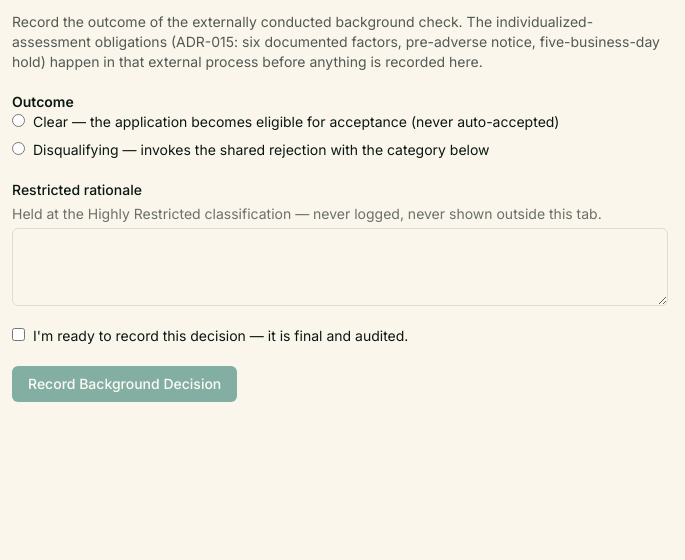
BackgroundPanel (Story 2.10) › reveals the ADR-016 category choice only for a Disqualifying outcome
This screenshot has width=685, height=560.
Expected: the text "Rejection category (ADR-016)" is not shown
Click the radio button labelled "Disqualifying — invokes" at point(18, 148), box [12,142,25,155]
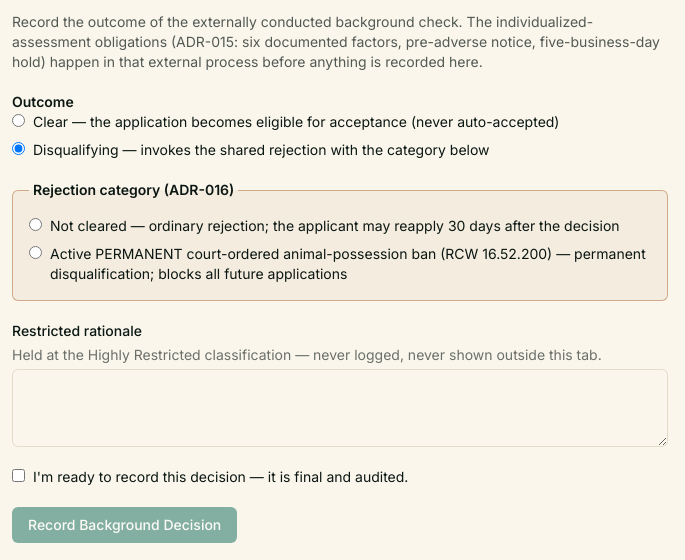
Now the text "Rejection category (ADR-016)" is shown, box [29,180,238,200]
Now the 3rd radio button is shown, box [29,218,42,231]
Now the radio button labelled "PERMANENT court-ordered animal-possession ban" is shown, box [29,246,42,259]
